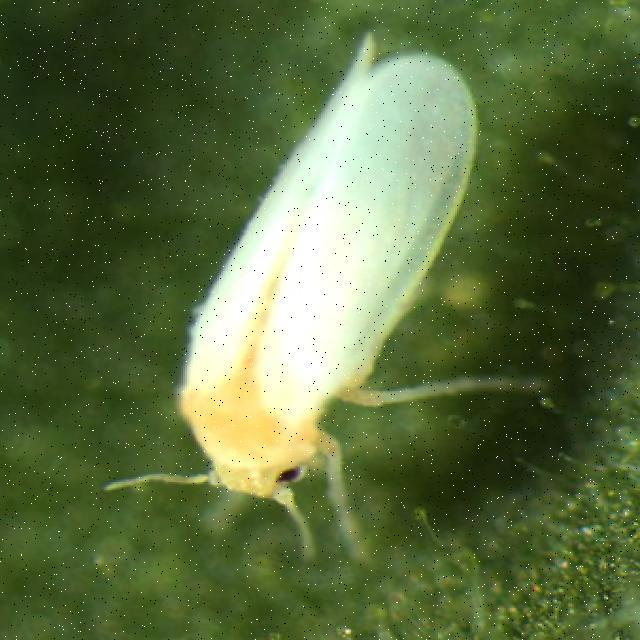Whiteflies: (79, 10, 513, 550)
